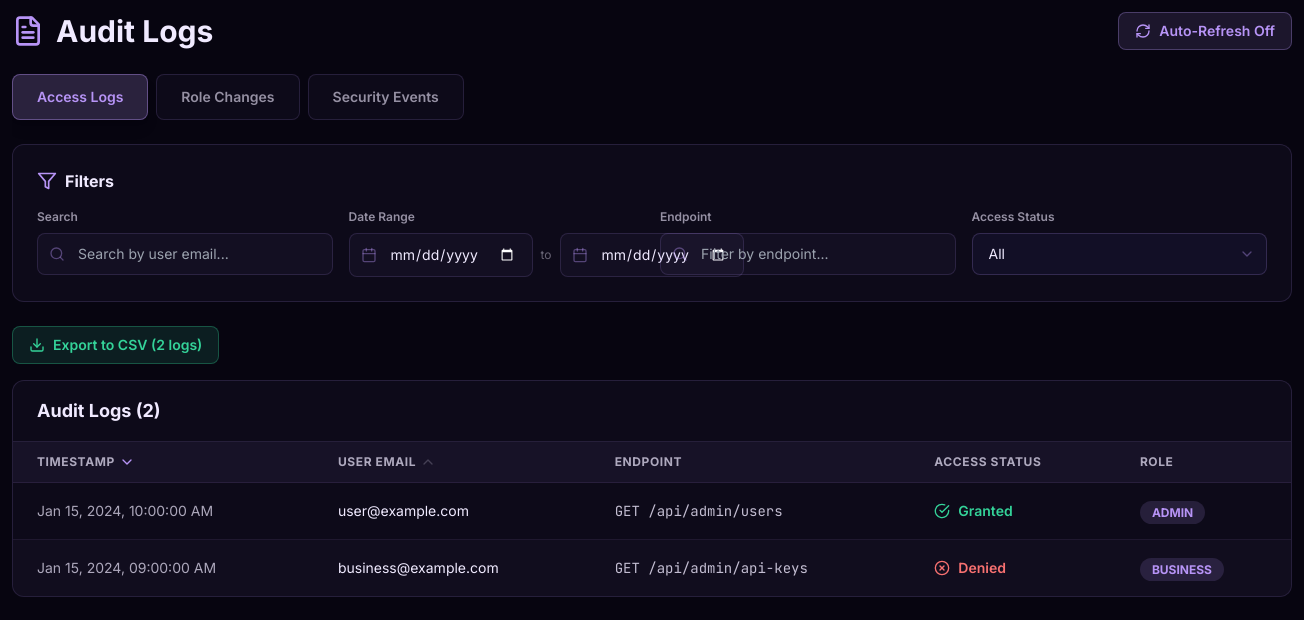
Test: AuditLogs › should reset filters when reset button is clicked
Apply a filter
Type "user@example.com" into the field with placeholder "Search by user email..." at (185, 254), box [37,233,332,275]
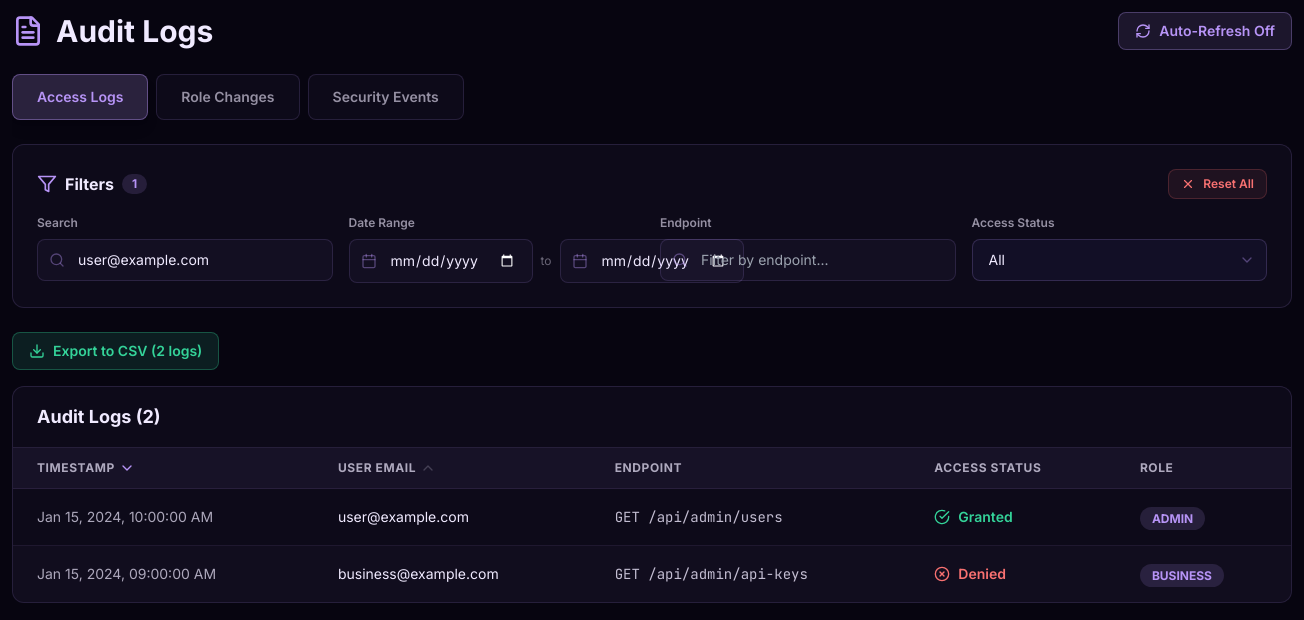
Click reset button
Click the button "Reset All" at (1218, 184), box [1168,169,1267,199]
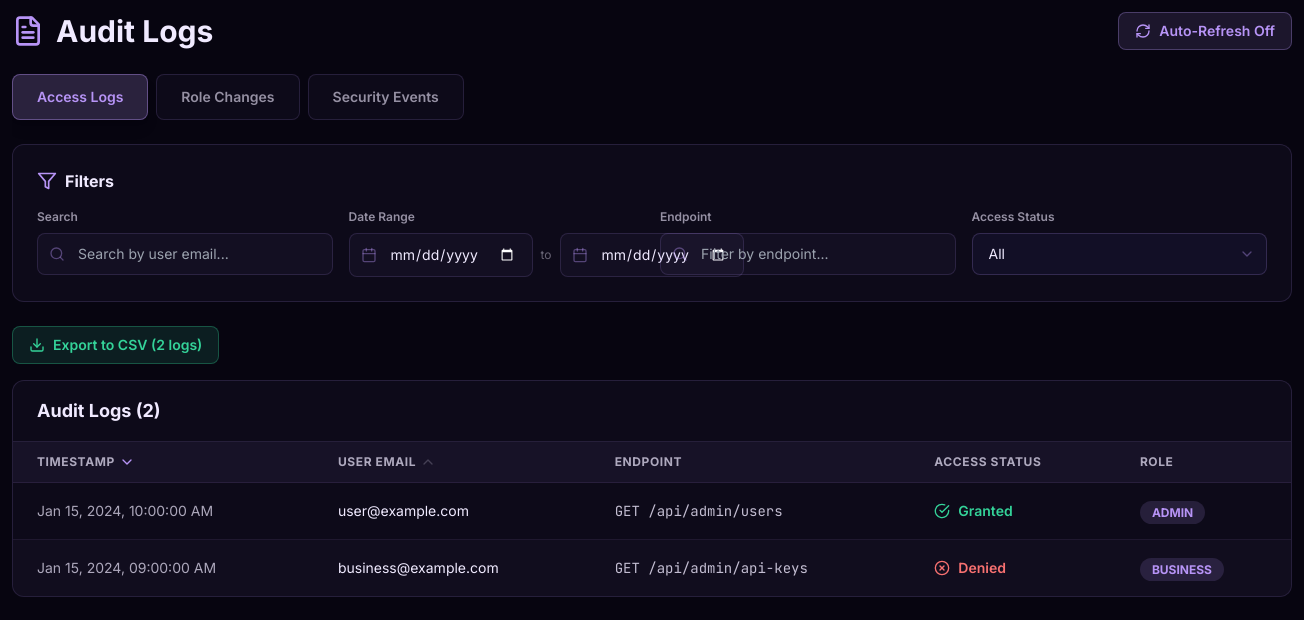
Check: the field with placeholder "Search by user email..." is empty, box [37,233,332,275]
